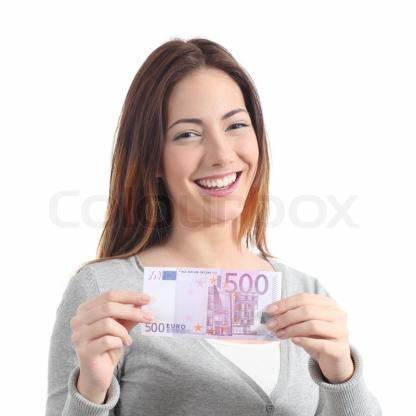billete: (139, 265, 284, 343)
